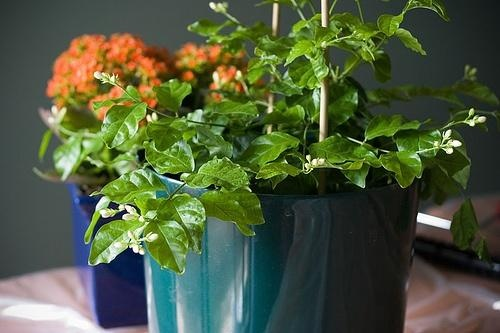pottedplant: (83, 2, 489, 333), (33, 34, 253, 330)
